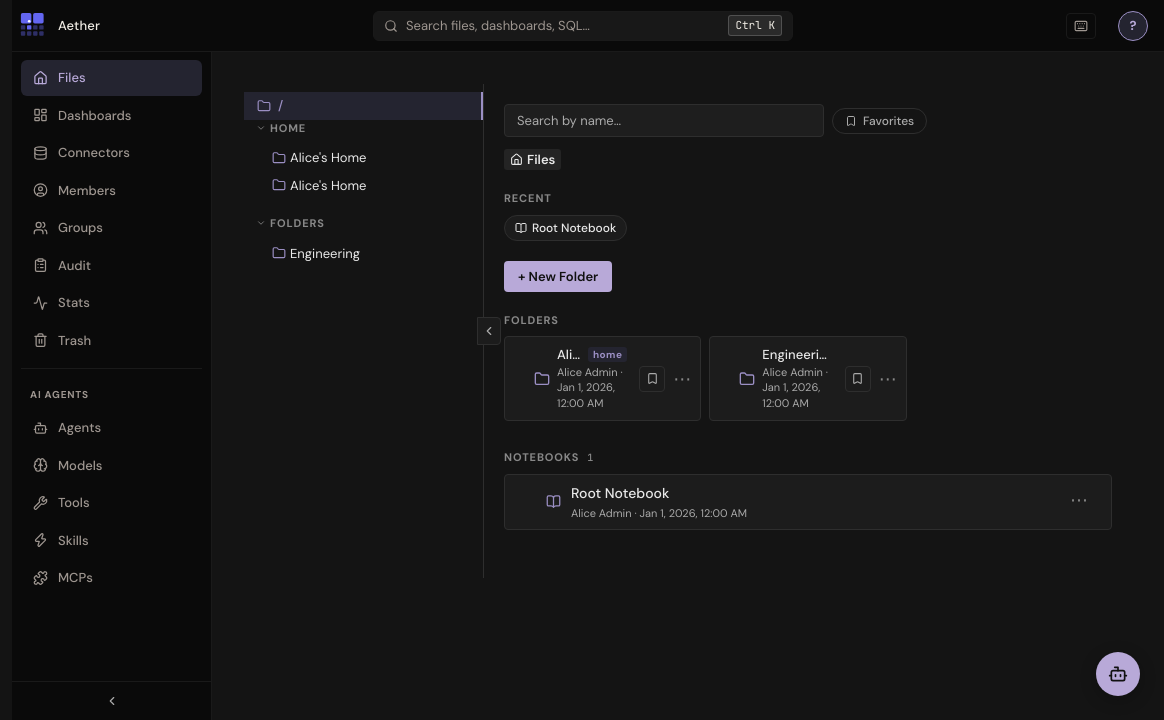
Context menu (T2.6) › clicking outside closes context menu
The width and height of the screenshot is (1164, 720).
Click the 1st button titled "More options": (683, 379) left=665, top=370, right=700, bottom=388
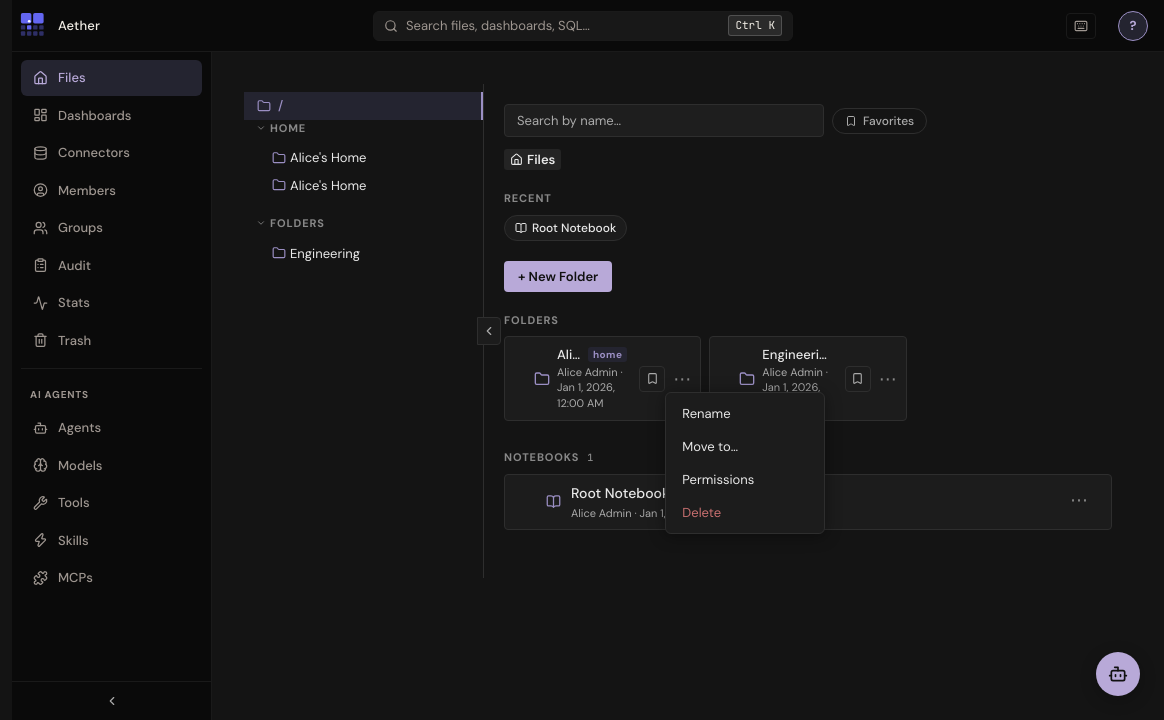
Result: the button "Rename" is shown at left=666, top=397, right=824, bottom=430
Simulate clicking outside by firing mousedown on document
Press the mouse on the element that starts with "Skip to content": (588, 360) left=12, top=0, right=1163, bottom=719
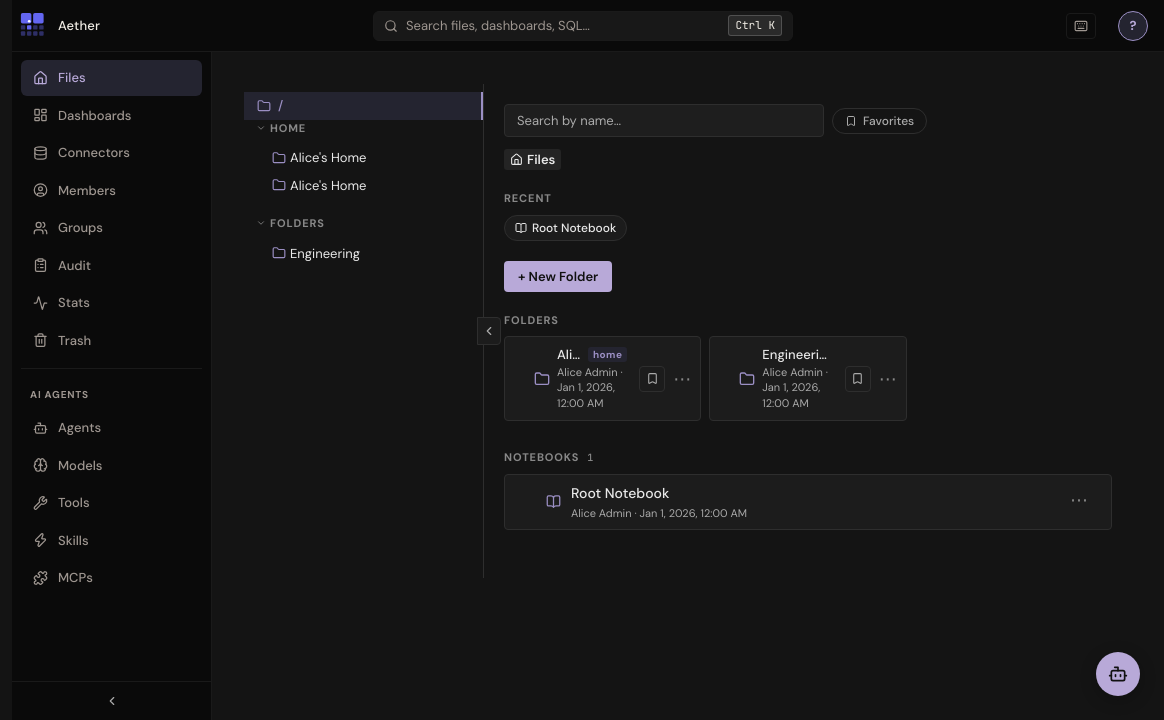
Result: the button "Rename" is gone
